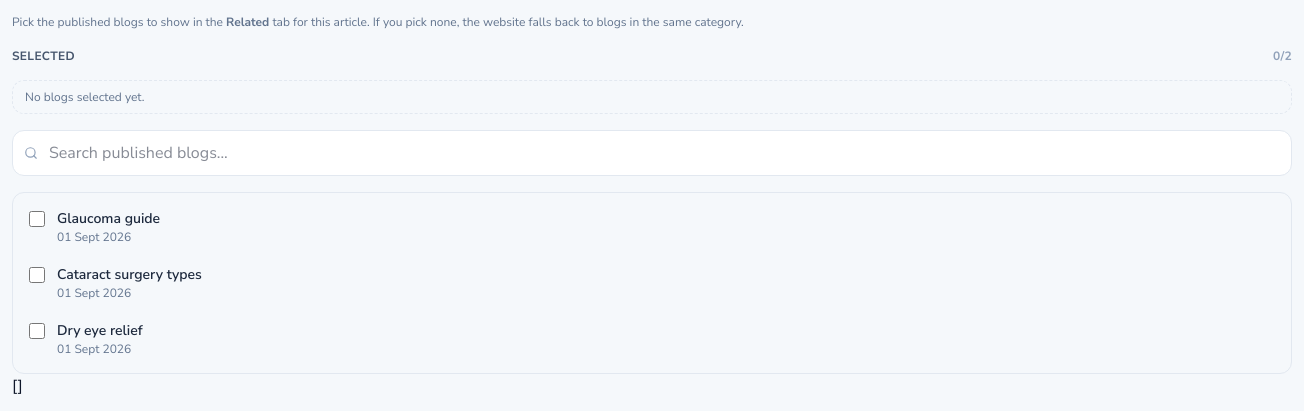
Test case: RelatedBlogsPicker › filters by search text
The width and height of the screenshot is (1304, 411).
Expected: the text "Glaucoma guide" is shown, [57, 209, 160, 229]
In the search field labelled "Search published blogs": (652, 153) [12, 130, 1292, 176], type "cataract"
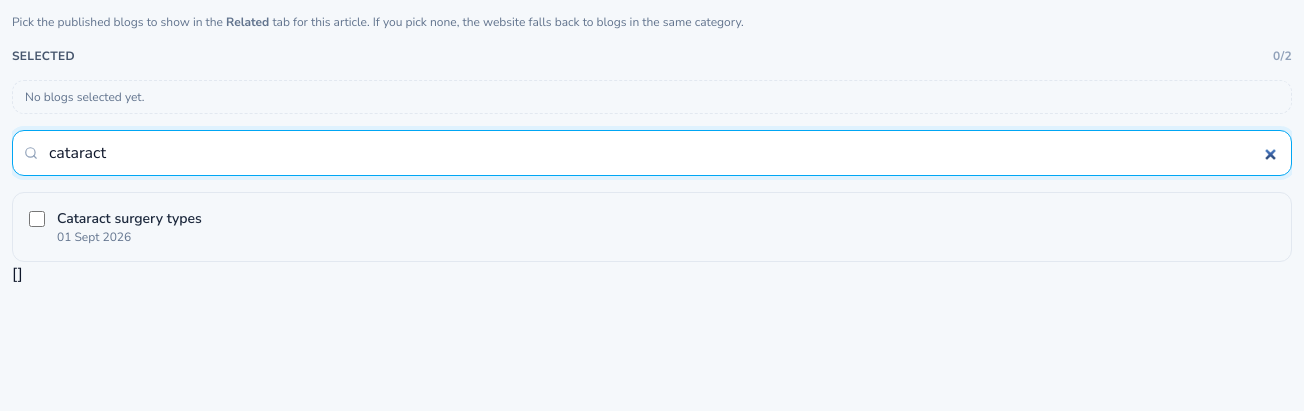
Expected: the text "Cataract surgery types" is shown, [57, 209, 202, 229]
Result: the text "Glaucoma guide" is gone
